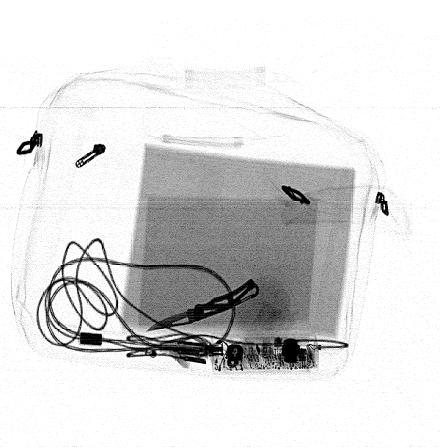Knife: (145, 277, 260, 331)
